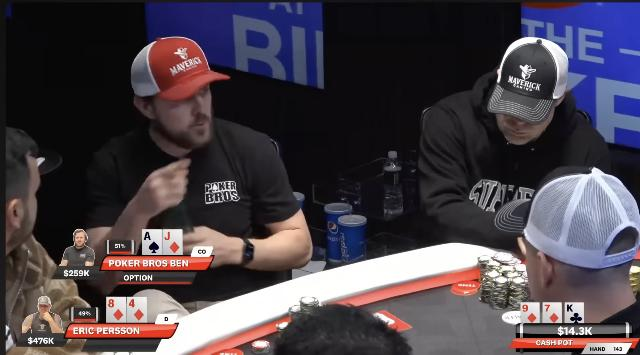4D: (127, 298, 147, 322)
7D: (543, 304, 561, 324)
8D: (106, 298, 126, 322)
9D: (520, 303, 540, 323)
AS: (142, 230, 162, 254)
JD: (162, 230, 182, 255)
KC: (565, 304, 583, 324)
